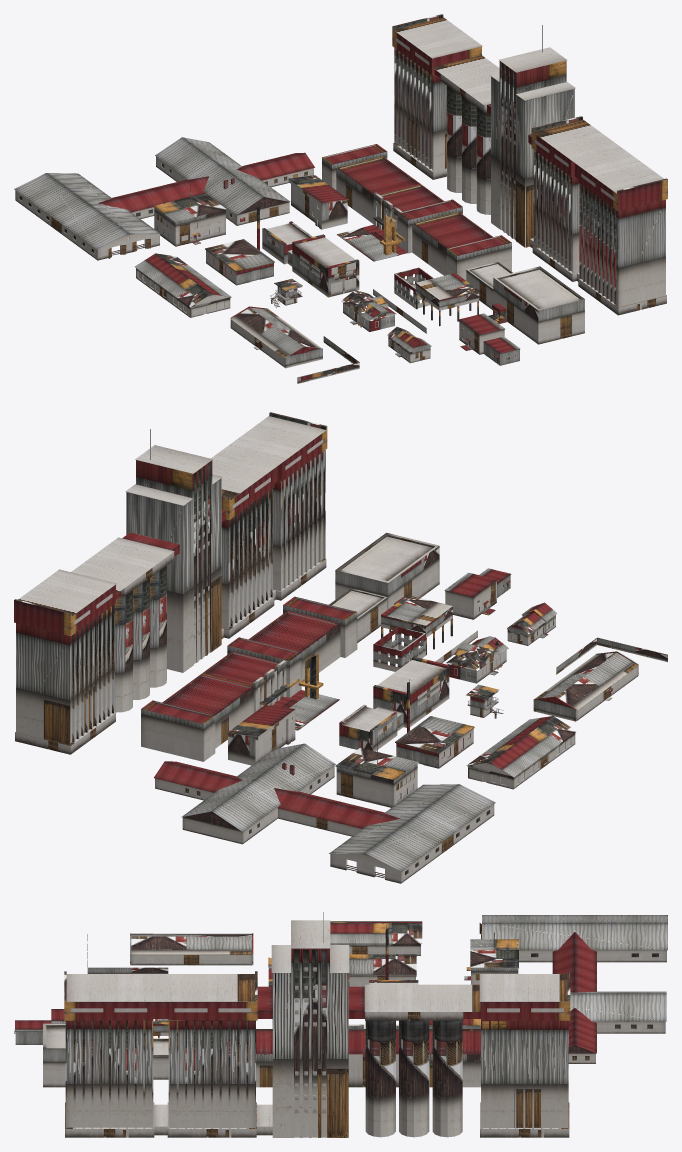
File: pack-old-industrial-and-office-buildings.fbx
3 views of the same model, one above another, from view 1: azimuth 30°, elevation 25°; view 2: azimuth 150°, elevation 25°; view 3: azimuth 270°, elevation 25° (orthographic). The views are drawn at different scales.
Parts seen in each view (by area): view 1: Box019_01 - Default_0, Box001_01 - Default_0 (×9), Box047_01 - Default_0, Box002_01 - Default_0 (×2), Box005_01 - Default_0, Object002_01 - Default_0; view 2: Box019_01 - Default_0, Box001_01 - Default_0 (×9), Box047_01 - Default_0, Box002_01 - Default_0 (×2), Box005_01 - Default_0, Object002_01 - Default_0; view 3: Box019_01 - Default_0, Box047_01 - Default_0, Box001_01 - Default_0 (×6), Box005_01 - Default_0, Box002_01 - Default_0.
Boxes of the visible parts, box(x1,y1,x2,y2) form: Box019_01 - Default_0: box(392, 14, 667, 315); Box001_01 - Default_0 (×9): box(134, 144, 520, 365); Box047_01 - Default_0: box(14, 137, 314, 260); Box002_01 - Default_0 (×2): box(341, 262, 584, 344); Box005_01 - Default_0: box(230, 306, 359, 383); Object002_01 - Default_0: box(387, 327, 431, 363); Box019_01 - Default_0: box(14, 412, 327, 754); Box001_01 - Default_0 (×9): box(141, 568, 576, 807); Box047_01 - Default_0: box(154, 743, 495, 883); Box002_01 - Default_0 (×2): box(329, 532, 508, 683); Box005_01 - Default_0: box(533, 637, 667, 721); Object002_01 - Default_0: box(507, 602, 557, 645); Box019_01 - Default_0: box(64, 912, 570, 1137); Box047_01 - Default_0: box(479, 915, 667, 1063); Box001_01 - Default_0 (×6): box(14, 921, 518, 1087); Box005_01 - Default_0: box(87, 933, 253, 973); Box002_01 - Default_0: box(43, 1023, 168, 1087).
Size of the model in its own units: 124 by 60.45 by 162.
Materials: 1 (1 with a texture image).
